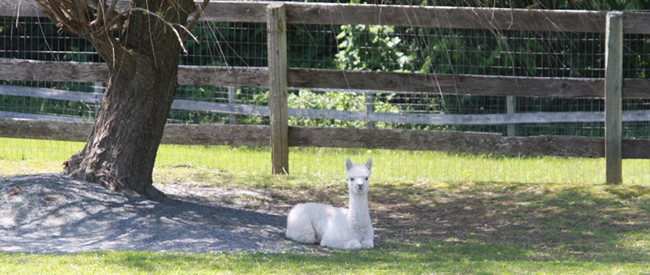alpaca: (286, 156, 374, 251)
